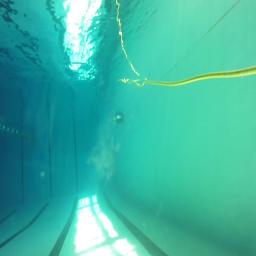Full: (113, 112, 124, 123)
